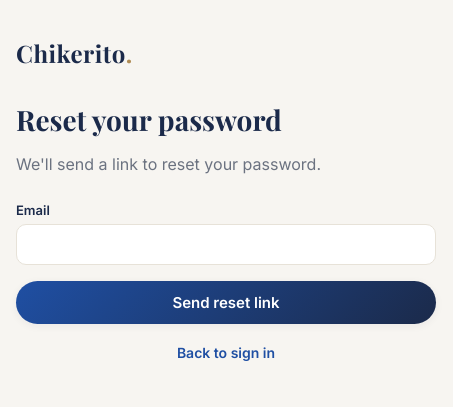
Test: ForgotPassword › shows an error if the request itself fails
The image size is (453, 407).
Type "ada@chikerito.test" into the field at (226, 244), box [16,224,436,265]
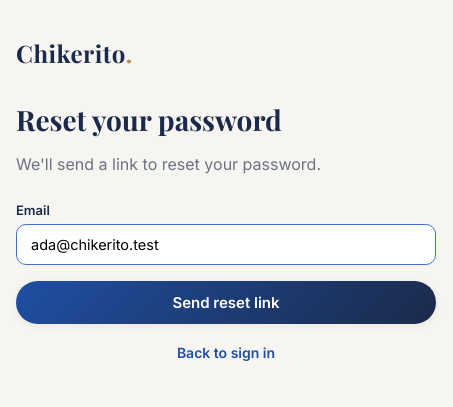
Click the button "Send reset link" at (226, 302), box [16,281,436,324]
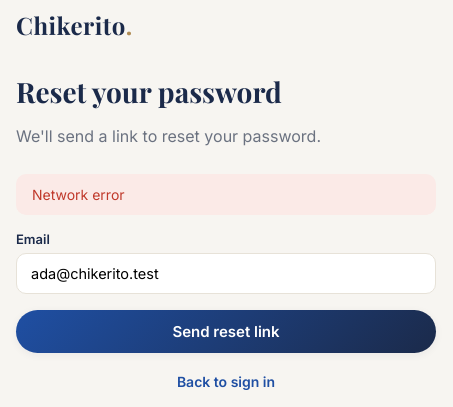
Expected: the text "Network error" is shown, [16,174,436,214]
